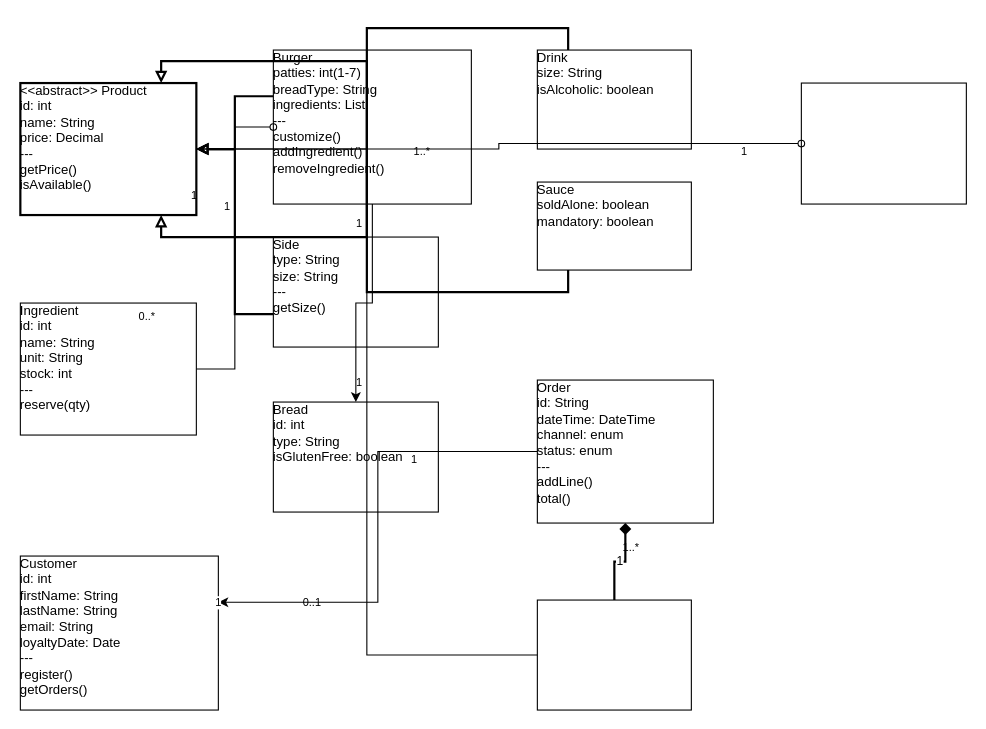
Some shapes in this 986 by 729 pixel diagram are drawn without their labels. The centre of each missing label's shape, as x and y in pixels:
Menu id: int name: String products: List mandatorySauces: List: point 883,143
OrderLine quantity: int unitPrice: Decimal --- lineTotal(): point 613,654
